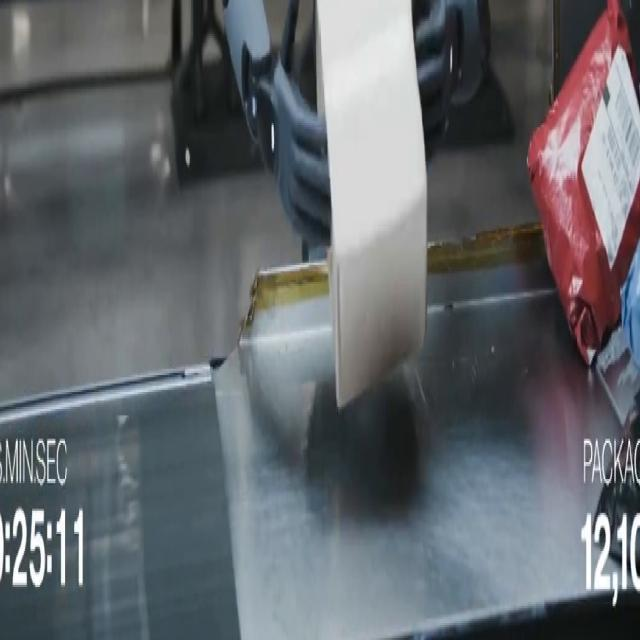package: (316, 0, 427, 409), (528, 0, 639, 364), (593, 395, 639, 574), (621, 246, 639, 370)
